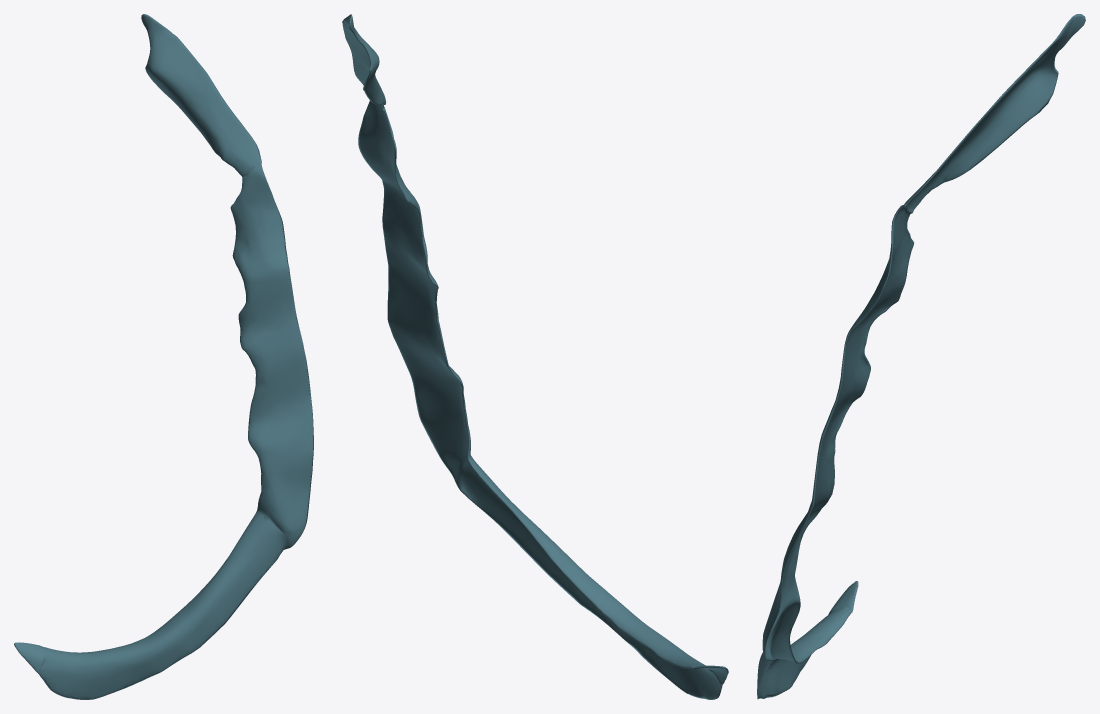
File: Pectoralis_major_sternocostal_insertion_right.glb
3 renders of one model, left to right at view 1: azimuth 30°, elevation 25°; view 2: azimuth 150°, elevation 25°; view 3: azimuth 270°, elevation 25°, orthographic. The views are drawn at different scales.
Visible parts, largest first — view 1: Sternocostal_head_of_pectoralis_major_muscle-_Insertion.r_Ge; view 2: Sternocostal_head_of_pectoralis_major_muscle-_Insertion.r_Ge; view 3: Sternocostal_head_of_pectoralis_major_muscle-_Insertion.r_Ge.
Boxes of the visible parts, <box> form: Sternocostal_head_of_pectoralis_major_muscle-_Insertion.r_Ge: <box>14,14,313,699</box>; Sternocostal_head_of_pectoralis_major_muscle-_Insertion.r_Ge: <box>342,14,728,699</box>; Sternocostal_head_of_pectoralis_major_muscle-_Insertion.r_Ge: <box>757,14,1085,699</box>.
Bounding box in the file's own units: 0.0932 × 0.1805 × 0.0691.
